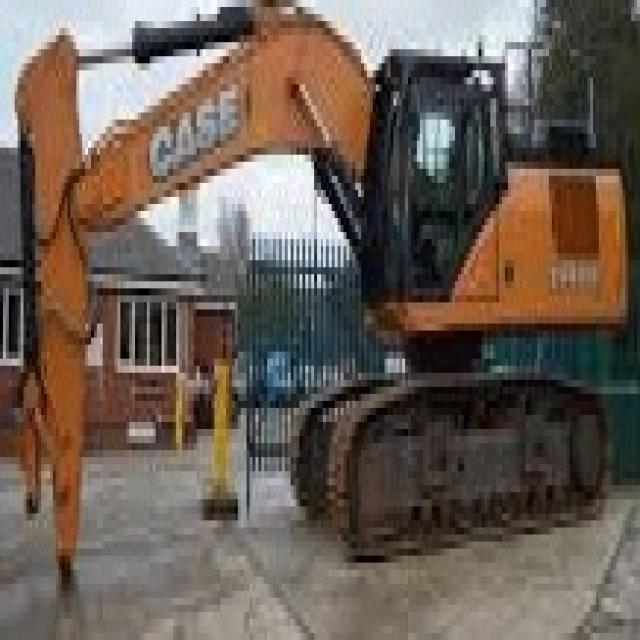excavator: (298, 34, 621, 590)
